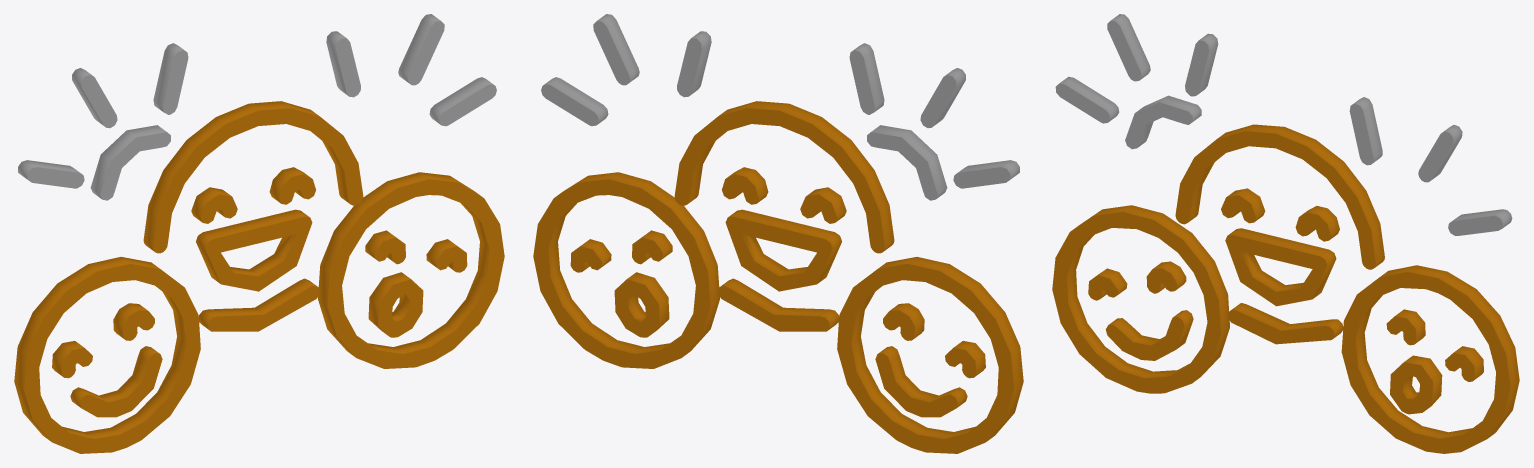
File: crowd.glb
3 renders of one model, left to right at view 1: azimuth 30°, elevation 25°; view 2: azimuth 150°, elevation 25°; view 3: azimuth 330°, elevation 25°, orthographic. The views are drawn at different scales.
Parts seen in each view (by area): view 1: crowd; view 2: crowd; view 3: crowd.
Part boxes in pixels (<box>): crowd: <box>14,14,504,453</box>; crowd: <box>533,14,1023,453</box>; crowd: <box>1052,14,1519,453</box>.
Size of what is drawn, in the model's own units: 1.66 by 1.27 by 0.0574.
Materials: 1 (1 with a texture image).
